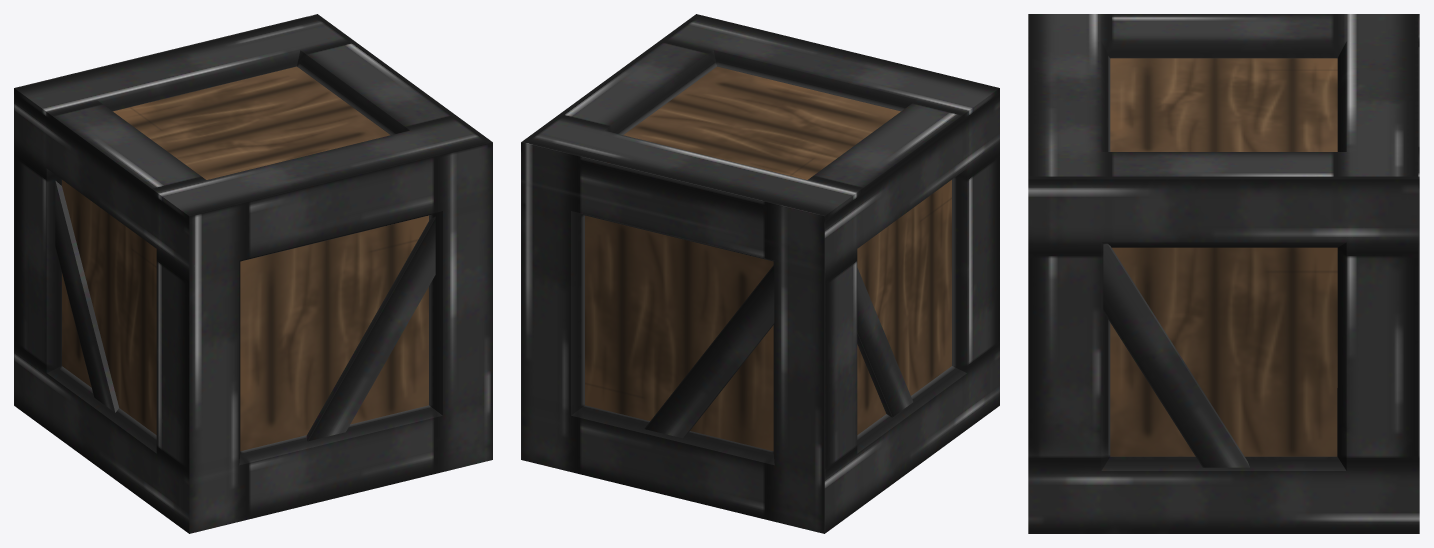
3 renders of one model, left to right at view 1: azimuth 30°, elevation 25°; view 2: azimuth 150°, elevation 25°; view 3: azimuth 270°, elevation 25°, orthographic. The views are drawn at different scales.
Visible parts, largest first — view 1: SM_box2; view 2: SM_box2; view 3: SM_box2.
Boxes of the visible parts, left/top/right/bottom form: SM_box2: left=14, top=14, right=492, bottom=533; SM_box2: left=521, top=14, right=999, bottom=533; SM_box2: left=1028, top=14, right=1419, bottom=533.
Bounding box in the file's own units: 1.92 × 1.92 × 1.92.
